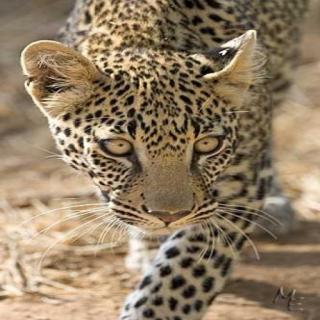Leopard: (21, 1, 282, 320)
